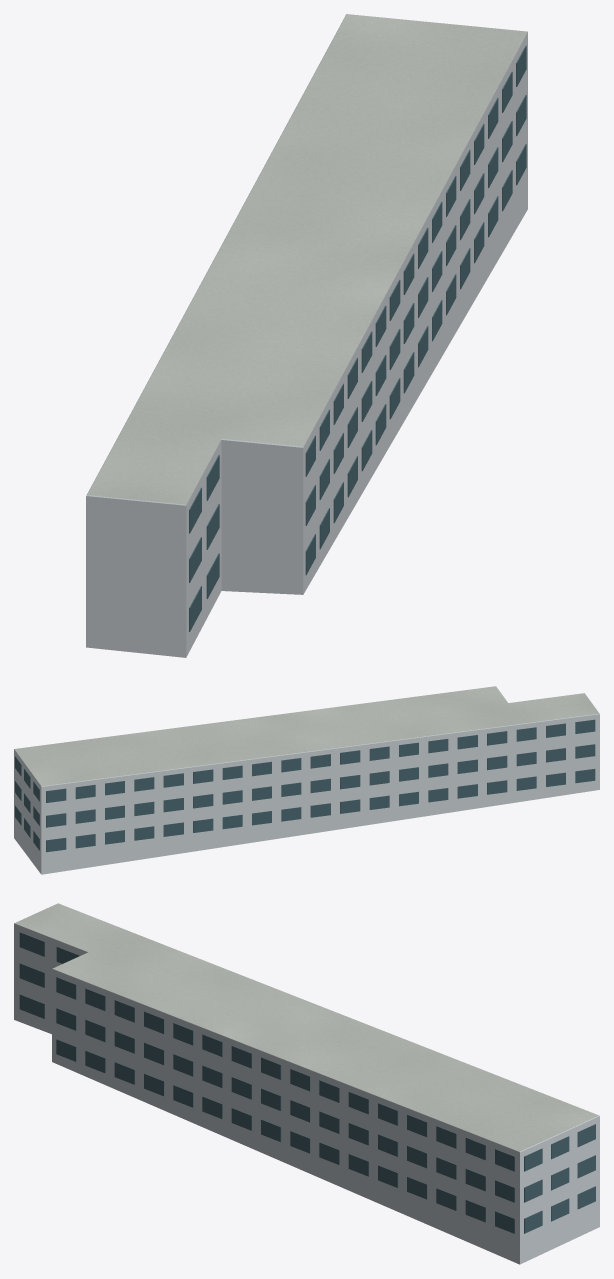
The model's file is fragments.glb.
3 renders of one model, top to bottom at view 1: azimuth 30°, elevation 25°; view 2: azimuth 150°, elevation 25°; view 3: azimuth 270°, elevation 25°, orthographic. The views are drawn at different scales.
Parts seen in each view (by area): view 1: SM_osm-524161868_Fragment_014, SM_osm-524161868_Fragment_024, SM_osm-524161868_Fragment_058, SM_osm-524161868_Fragment_002, SM_osm-524161868_Fragment_016, SM_osm-524161868_Fragment_026, SM_osm-524161868_Fragment_021, SM_osm-524161868_Fragment_042, SM_osm-524161868_Fragment_029, SM_osm-524161868_Fragment_006, SM_osm-524161868_Fragment_027, SM_osm-524161868_Fragment_030 (+31 smaller); view 2: SM_osm-524161868_Fragment_034, SM_osm-524161868_Fragment_025, SM_osm-524161868_Fragment_019, SM_osm-524161868_Fragment_000, SM_osm-524161868_Fragment_028, SM_osm-524161868_Fragment_044, SM_osm-524161868_Fragment_010, SM_osm-524161868_Fragment_033, SM_osm-524161868_Fragment_051, SM_osm-524161868_Fragment_009, SM_osm-524161868_Fragment_054, SM_osm-524161868_Fragment_045 (+30 smaller); view 3: SM_osm-524161868_Fragment_016, SM_osm-524161868_Fragment_014, SM_osm-524161868_Fragment_058, SM_osm-524161868_Fragment_023, SM_osm-524161868_Fragment_001, SM_osm-524161868_Fragment_013, SM_osm-524161868_Fragment_021, SM_osm-524161868_Fragment_007, SM_osm-524161868_Fragment_020, SM_osm-524161868_Fragment_030, SM_osm-524161868_Fragment_043, SM_osm-524161868_Fragment_026 (+31 smaller).
Boxes of the visible parts, box(x1,y1,x2,y2) form: SM_osm-524161868_Fragment_014: box(229, 391, 332, 525); SM_osm-524161868_Fragment_024: box(86, 469, 192, 558); SM_osm-524161868_Fragment_058: box(365, 132, 473, 273); SM_osm-524161868_Fragment_002: box(118, 398, 250, 484); SM_osm-524161868_Fragment_016: box(348, 182, 448, 323); SM_osm-524161868_Fragment_026: box(308, 216, 421, 309); SM_osm-524161868_Fragment_021: box(296, 281, 392, 402); SM_osm-524161868_Fragment_042: box(134, 469, 209, 605); SM_osm-524161868_Fragment_029: box(245, 516, 325, 594); SM_osm-524161868_Fragment_006: box(167, 303, 306, 352); SM_osm-524161868_Fragment_027: box(149, 346, 290, 404); SM_osm-524161868_Fragment_030: box(382, 90, 492, 228); SM_osm-524161868_Fragment_034: box(369, 739, 448, 806); SM_osm-524161868_Fragment_025: box(310, 733, 389, 789); SM_osm-524161868_Fragment_019: box(31, 821, 104, 874); SM_osm-524161868_Fragment_000: box(299, 773, 360, 833); SM_osm-524161868_Fragment_028: box(154, 787, 213, 852); SM_osm-524161868_Fragment_044: box(516, 698, 577, 769); SM_osm-524161868_Fragment_010: box(35, 766, 104, 823); SM_osm-524161868_Fragment_033: box(131, 751, 183, 827); SM_osm-524161868_Fragment_051: box(456, 718, 521, 779); SM_osm-524161868_Fragment_009: box(216, 739, 279, 789); SM_osm-524161868_Fragment_054: box(164, 741, 229, 798); SM_osm-524161868_Fragment_045: box(88, 753, 149, 812); SM_osm-524161868_Fragment_016: box(289, 1055, 375, 1155); SM_osm-524161868_Fragment_014: box(52, 958, 127, 1053); SM_osm-524161868_Fragment_058: box(339, 1067, 423, 1147); SM_osm-524161868_Fragment_023: box(495, 1126, 571, 1208); SM_osm-524161868_Fragment_001: box(481, 1196, 570, 1264); SM_osm-524161868_Fragment_013: box(85, 1007, 164, 1102); SM_osm-524161868_Fragment_021: box(173, 1005, 248, 1083); SM_osm-524161868_Fragment_007: box(428, 1109, 507, 1172); SM_osm-524161868_Fragment_020: box(244, 1081, 310, 1166); SM_osm-524161868_Fragment_030: box(398, 1088, 475, 1177); SM_osm-524161868_Fragment_043: box(110, 987, 187, 1065); SM_osm-524161868_Fragment_026: box(238, 1032, 331, 1092).
Size of the model in its own units: 2.2 by 0.4643 by 2.19.
Materials: 5 (1 with a texture image).
